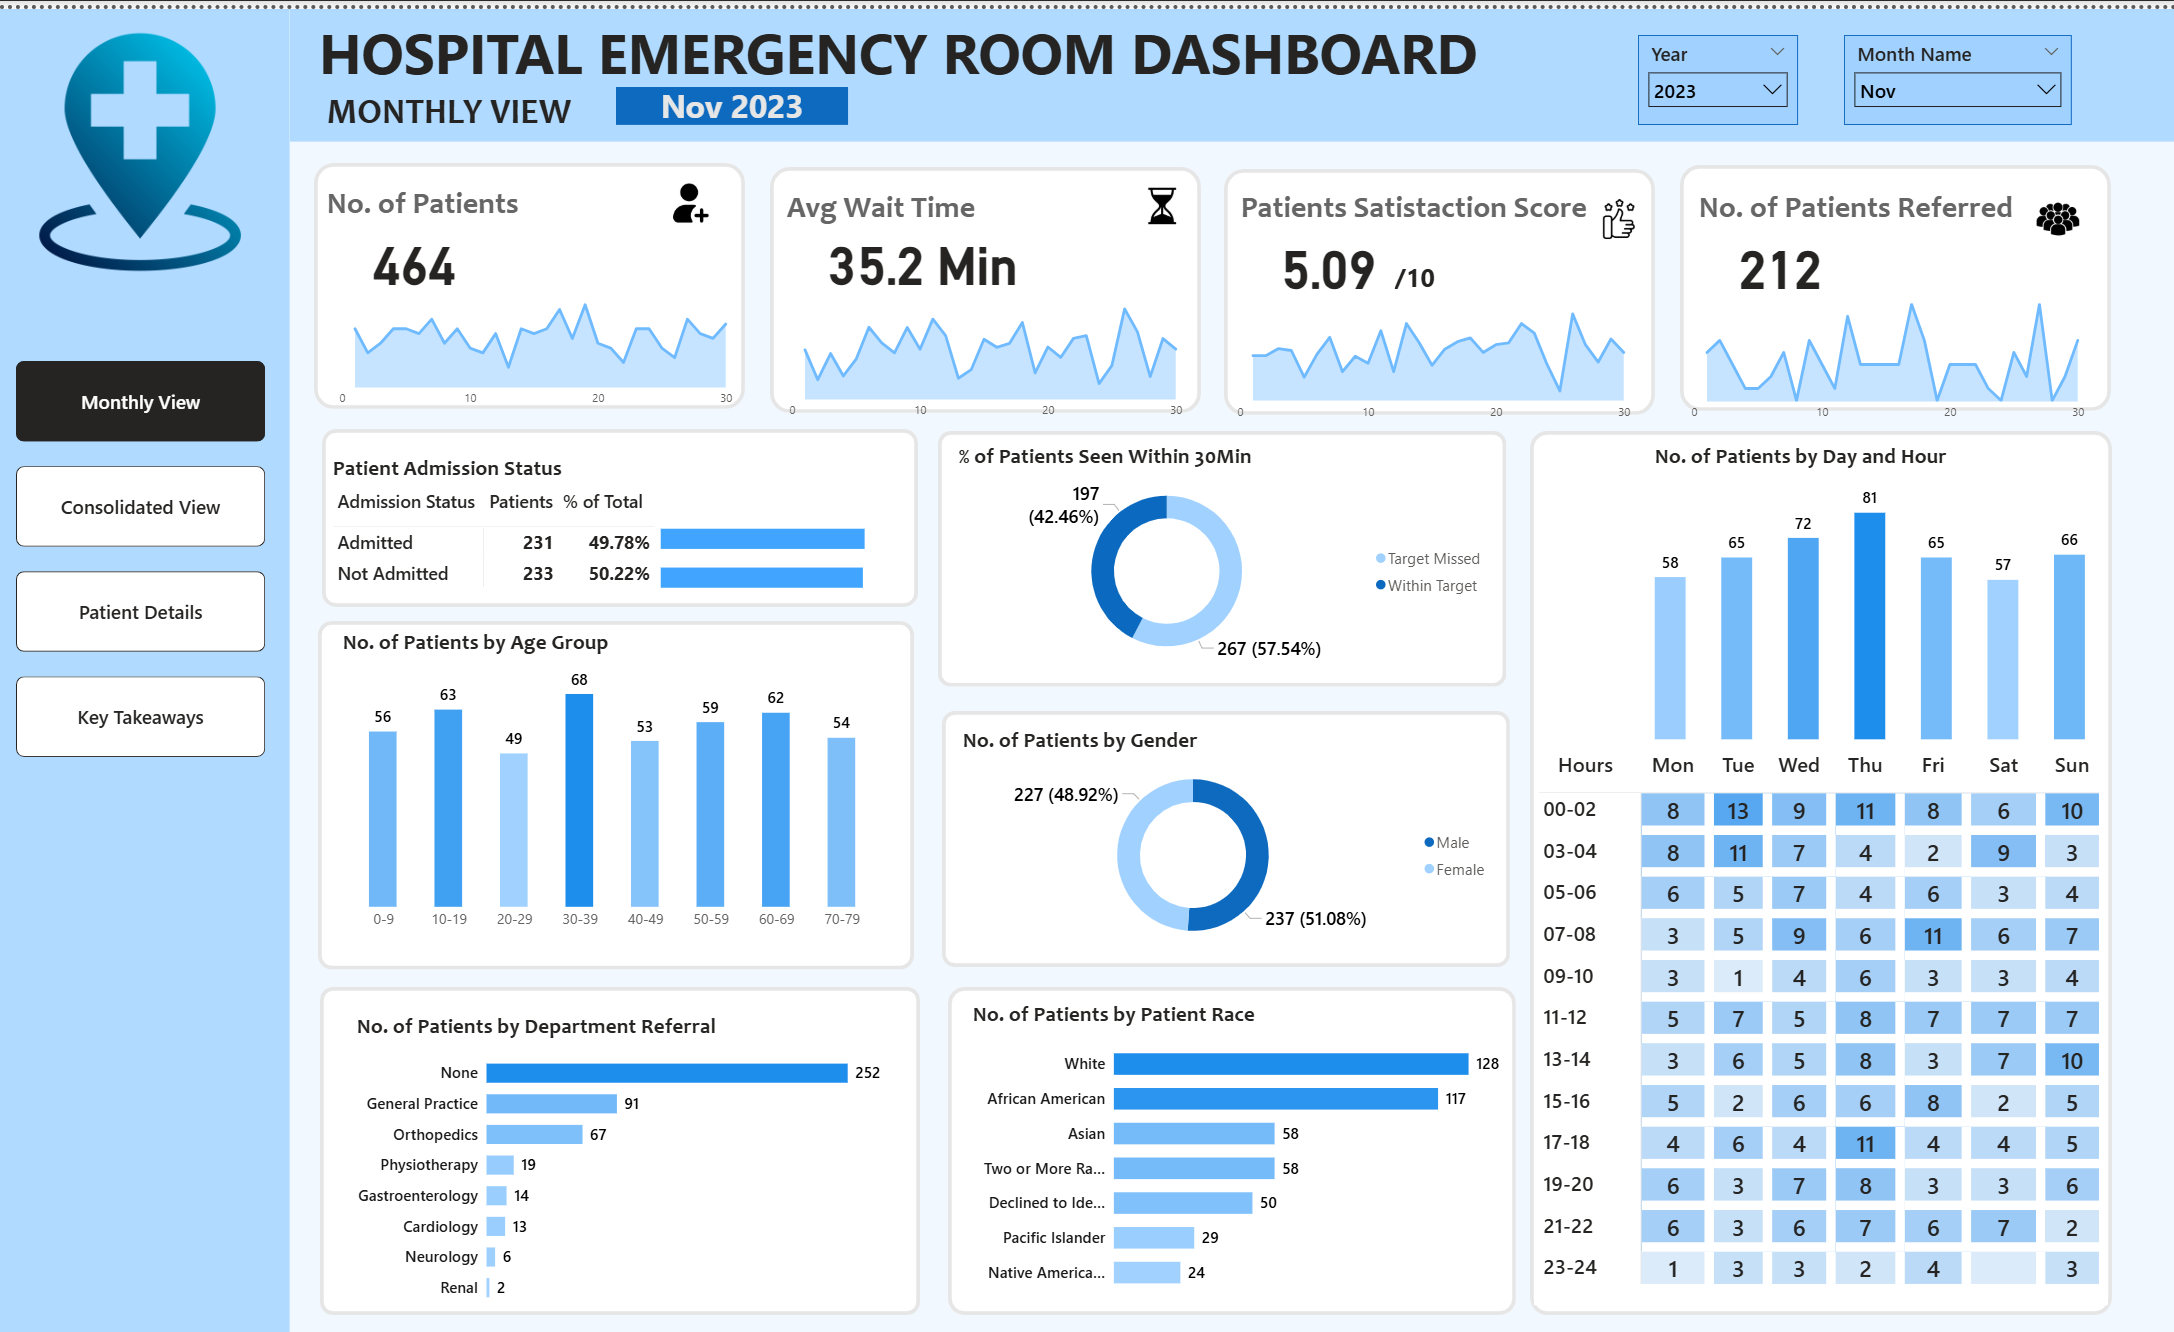

The page's visual inventory and layout, read from the dashboard file:
{"tool":"powerbi","page":{"name":"Monthly View","canvas":[2300,1400],"ordinal":0},"visuals":[{"type":"shape","box":[0,0,310,1399.4],"z":0},{"type":"shape","box":[309.4,0,1990.6,140],"z":1000},{"type":"textbox","box":[334.8,0,1283.9,92.4],"z":2000},{"type":"textbox","box":[344.2,80.2,302,59.1],"z":3000},{"type":"shape","box":[335.7,162.6,455,259.7],"z":4000},{"type":"card","fields":{"Values":["Hospital ER_Data.No. of Patients"]},"box":[365.3,213.3,152,101.4],"z":5000},{"type":"slicer","fields":{"Values":["Date Table.Year"]},"box":[1733.6,27.5,168.9,95],"z":6000},{"type":"slicer","fields":{"Values":["Date Table.Month Name"]},"box":[1951.1,27.5,240.7,95],"z":7000},{"type":"textbox","box":[344.2,179.5,223.8,65.5],"z":8000},{"type":"areaChart","fields":{"Category":["Date Table.Date.Variation.Date Hierarchy.Day"],"Y":["Hospital ER_Data.No. of Patients"]},"box":[350.5,283,435,145.7],"z":9000},{"type":"card","fields":{"Values":["Min(Date Table.Month & Year)"]},"box":[654.6,82.4,244.9,40.1],"z":10000},{"type":"shape","box":[816.5,166.4,455,259.7],"z":11000},{"type":"card","fields":{"Values":["Hospital ER_Data.Avg Wait Time"]},"box":[857.3,213.3,242.8,101.4],"z":12000},{"type":"textbox","box":[829.9,183.7,223.8,65.5],"z":13000},{"type":"areaChart","fields":{"Category":["Date Table.Date.Variation.Date Hierarchy.Day"],"Y":["Avg(Hospital ER_Data.Patient Waittime)"]},"box":[825.6,295.6,435,145.7],"z":14000},{"type":"shape","box":[1297.2,168.4,455,259.7],"z":15000},{"type":"card","fields":{"Values":["Avg(Hospital ER_Data.Patient Satisfaction Score)"]},"box":[1330.3,217.5,152,101.4],"z":16000},{"type":"textbox","box":[1309.2,183.7,394.9,61.2],"z":17000},{"type":"areaChart","fields":{"Category":["Date Table.Date.Variation.Date Hierarchy.Day"],"Y":["Avg(Hospital ER_Data.Patient Satisfaction Score)"]},"box":[1298.6,297.7,435,145.7],"z":18000},{"type":"shape","box":[1778,164.5,455,259.7],"z":19000},{"type":"card","fields":{"Values":["Hospital ER_Data.No. of Patient Referred"]},"box":[1808,216.9,152,101.4],"z":20000},{"type":"shape","box":[344.2,443.4,629.3,187.9],"z":21000},{"type":"textbox","box":[1792.8,183.7,399.1,65.5],"z":22000},{"type":"areaChart","fields":{"Category":["Date Table.Date.Variation.Date Hierarchy.Day"],"Y":["Hospital ER_Data.No. of Patient Referred"]},"box":[1778.5,297.2,435,145.7],"z":23000},{"type":"pivotTable","title":"Patient Admission Status","fields":{"Rows":["Hospital ER_Data.Admission Status"],"Values":["Hospital ER_Data.No. of Patients1","Hospital ER_Data.No. of Patients"]},"box":[350.5,470.4,356.9,152],"z":24000},{"type":"barChart","fields":{"Category":["Hospital ER_Data.Admission Status"],"Y":["Hospital ER_Data.No. of Patients"]},"box":[696.8,514.8,287.2,124.6],"z":25000},{"type":"shape","box":[340,646.5,629.3,368],"z":26000},{"type":"clusteredColumnChart","fields":{"Category":["Hospital ER_Data.Age Group"],"Y":["Hospital ER_Data.No. of Patients"]},"box":[361.1,654.3,580.7,327.3],"z":27000},{"type":"shape","box":[342.1,1032.6,633.5,346.3],"z":28000},{"type":"clusteredBarChart","fields":{"Category":["Hospital ER_Data.Department Referral"],"Y":["Hospital ER_Data.No. of Patients"]},"box":[375.9,1060,565.9,318.9],"z":29000},{"type":"shape","box":[994.6,445.6,600,270],"z":30000},{"type":"donutChart","title":"% of Patients Seen Within 30Min","fields":{"Category":["Hospital ER_Data.Waittime Status"],"Y":["Hospital ER_Data.No. of Patients"]},"box":[1011.5,458.2,570.1,242.8],"z":31000},{"type":"shape","box":[998.8,741.2,599.7,270.3],"z":32000},{"type":"donutChart","title":"No. of Patients by Gender ","fields":{"Y":["Hospital ER_Data.No. of Patients"],"Category":["Hospital ER_Data.Patient Gender"]},"box":[1016.2,757.5,570.1,242.8],"z":33000},{"type":"shape","box":[1005.1,1032.6,599.7,346.3],"z":34000},{"type":"clusteredBarChart","fields":{"Y":["Hospital ER_Data.No. of Patients"],"Category":["Hospital ER_Data.Patient Race"]},"box":[1026.2,1047.4,565.9,318.9],"z":35000},{"type":"shape","box":[1619.6,445.6,614.5,933.3],"z":36000},{"type":"pivotTable","fields":{"Rows":["Hospital ER_Data.Waittime Interval"],"Columns":["Date Table.Day Name"],"Values":["Hospital ER_Data.No. of Patients"]},"box":[1623.8,777.1,606,591.3],"z":37000},{"type":"columnChart","title":"No. of Patients by Day and Hour","fields":{"Category":["Date Table.Day Name"],"Y":["Hospital ER_Data.No. of Patients"]},"box":[1746.3,458.2,466.7,318.9],"z":38000},{"type":"image","box":[21.1,19,261.8,264],"z":39000},{"type":"image","box":[696.8,177.4,69.7,54.9],"z":40000},{"type":"image","box":[1201.5,183.7,59.1,48.6],"z":41000},{"type":"image","box":[1683,194.3,61.2,54.9],"z":42000},{"type":"image","box":[2147.5,194.3,59.1,54.9],"z":43000},{"type":"textbox","box":[1471.8,259.7,69.7,50.7],"z":44000},{"type":"pageNavigator","box":[21.1,371.6,264,420.2],"z":45000}]}

Visuals, with their boxes in screenshot pixels (x1, y1, x2, y2), scaled from the page's 2300x1400 canvas onto the 2174x1332 screenshot:
shape: bbox=[0, 0, 293, 1331]
shape: bbox=[292, 0, 2173, 133]
textbox: bbox=[316, 0, 1530, 88]
textbox: bbox=[325, 76, 611, 133]
shape: bbox=[317, 155, 747, 402]
card - Hospital ER_Data.No. of Patients: bbox=[345, 203, 489, 299]
slicer - Date Table.Year: bbox=[1639, 26, 1798, 117]
slicer - Date Table.Month Name: bbox=[1844, 26, 2072, 117]
textbox: bbox=[325, 171, 537, 233]
areaChart - Date Table.Date.Variation.Date Hierarchy.Day x Hospital ER_Data.No. of Patients: bbox=[331, 269, 742, 408]
card - Min(Date Table.Month & Year): bbox=[619, 78, 850, 117]
shape: bbox=[772, 158, 1202, 405]
card - Hospital ER_Data.Avg Wait Time: bbox=[810, 203, 1040, 299]
textbox: bbox=[784, 175, 996, 237]
areaChart - Date Table.Date.Variation.Date Hierarchy.Day x Avg(Hospital ER_Data.Patient Waittime): bbox=[780, 281, 1192, 420]
shape: bbox=[1226, 160, 1656, 407]
card - Avg(Hospital ER_Data.Patient Satisfaction Score): bbox=[1257, 207, 1401, 303]
textbox: bbox=[1237, 175, 1611, 233]
areaChart - Date Table.Date.Variation.Date Hierarchy.Day x Avg(Hospital ER_Data.Patient Satisfaction Score): bbox=[1227, 283, 1639, 422]
shape: bbox=[1681, 157, 2111, 404]
card - Hospital ER_Data.No. of Patient Referred: bbox=[1709, 206, 1853, 303]
shape: bbox=[325, 422, 920, 601]
textbox: bbox=[1695, 175, 2072, 237]
areaChart - Date Table.Date.Variation.Date Hierarchy.Day x Hospital ER_Data.No. of Patient Referred: bbox=[1681, 283, 2092, 421]
"Patient Admission Status" pivotTable: bbox=[331, 448, 669, 592]
barChart - Hospital ER_Data.Admission Status x Hospital ER_Data.No. of Patients: bbox=[659, 490, 930, 608]
shape: bbox=[321, 615, 916, 965]
clusteredColumnChart - Hospital ER_Data.Age Group x Hospital ER_Data.No. of Patients: bbox=[341, 623, 890, 934]
shape: bbox=[323, 982, 922, 1312]
clusteredBarChart - Hospital ER_Data.Department Referral x Hospital ER_Data.No. of Patients: bbox=[355, 1009, 890, 1312]
shape: bbox=[940, 424, 1507, 681]
"% of Patients Seen Within 30Min" donutChart: bbox=[956, 436, 1495, 667]
shape: bbox=[944, 705, 1511, 962]
"No. of Patients by Gender " donutChart: bbox=[961, 721, 1499, 952]
shape: bbox=[950, 982, 1517, 1312]
clusteredBarChart - Hospital ER_Data.No. of Patients x Hospital ER_Data.Patient Race: bbox=[970, 997, 1505, 1300]
shape: bbox=[1531, 424, 2112, 1312]
pivotTable - Hospital ER_Data.Waittime Interval x Date Table.Day Name: bbox=[1535, 739, 2108, 1302]
"No. of Patients by Day and Hour" columnChart: bbox=[1651, 436, 2092, 739]
image: bbox=[20, 18, 267, 269]
image: bbox=[659, 169, 725, 221]
image: bbox=[1136, 175, 1192, 221]
image: bbox=[1591, 185, 1649, 237]
image: bbox=[2030, 185, 2086, 237]
textbox: bbox=[1391, 247, 1457, 295]
pageNavigator: bbox=[20, 354, 269, 753]
